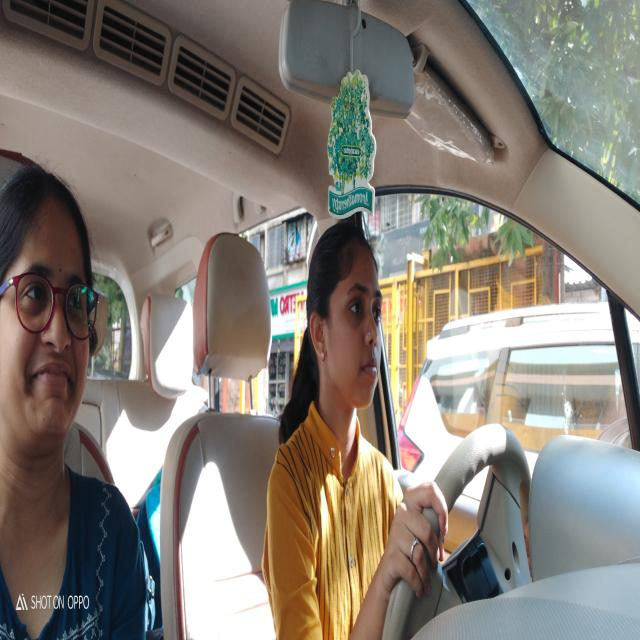person: (0, 156, 97, 475), (304, 213, 391, 424)
